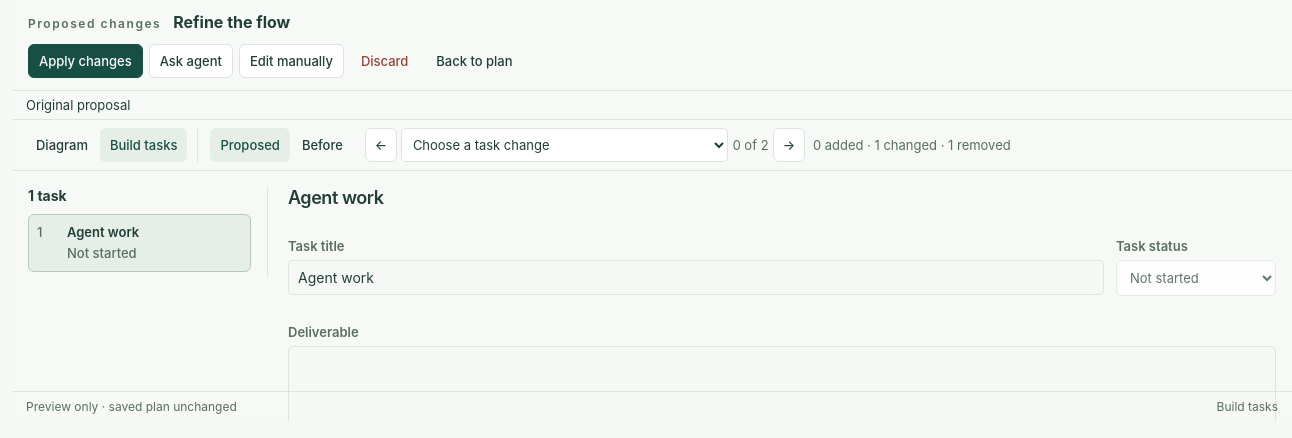
Test: reviewable build task proposals › compares task changes by stable identity and opens removed tasks in Before
Expected: the text with test id "review-task-count" reads "0 added · 1 changed · 1 removed", [813, 137, 1011, 153]
Select "Removed: Removed work" in the dropdown named "Review task change" at point(565, 145), box [401, 128, 728, 162]
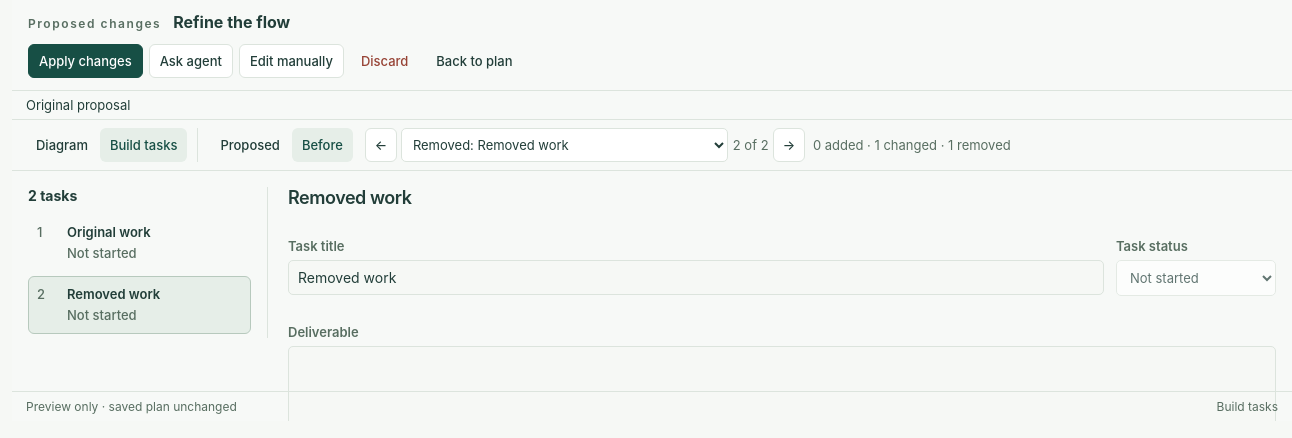
Expected: the field labelled "Task title" holds "Removed work", [288, 260, 1104, 295]
Click the button named "Next task change" at point(789, 145), box [773, 128, 805, 162]
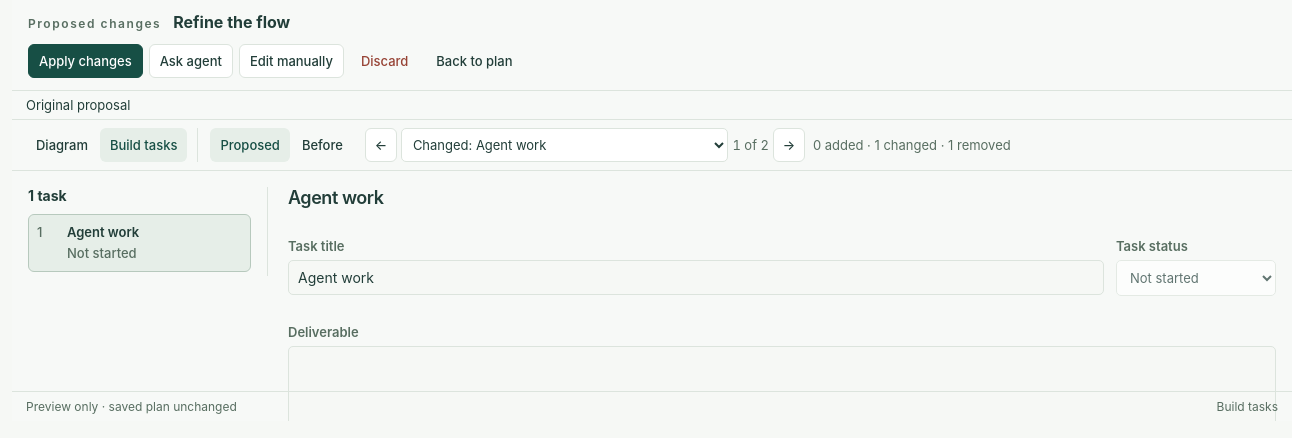
Expected: the field labelled "Task title" holds "Agent work", [288, 260, 1104, 295]
Click the button "Diagram" at point(62, 145), box [26, 128, 98, 162]
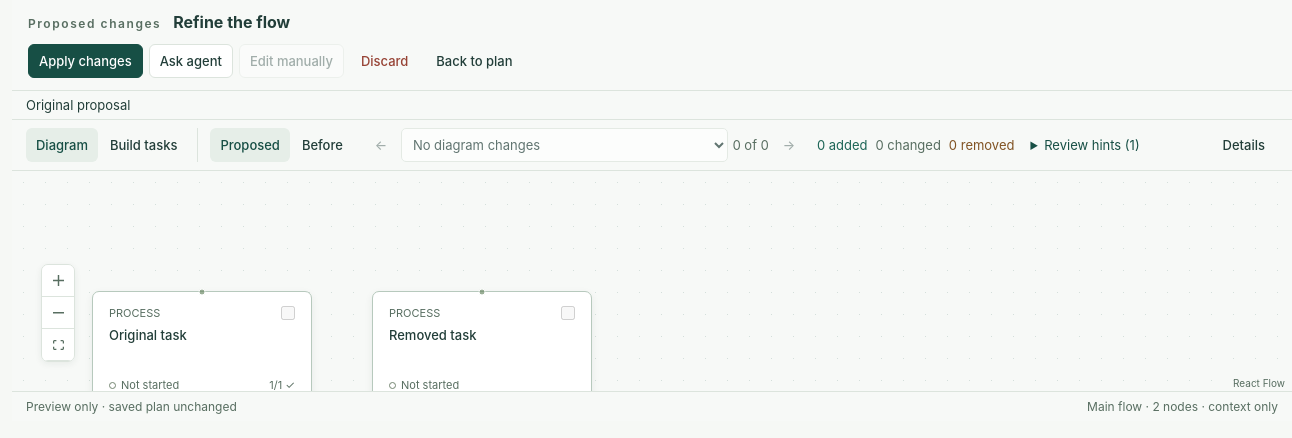
Expected: the button "Edit manually" is disabled, [239, 44, 344, 78]
